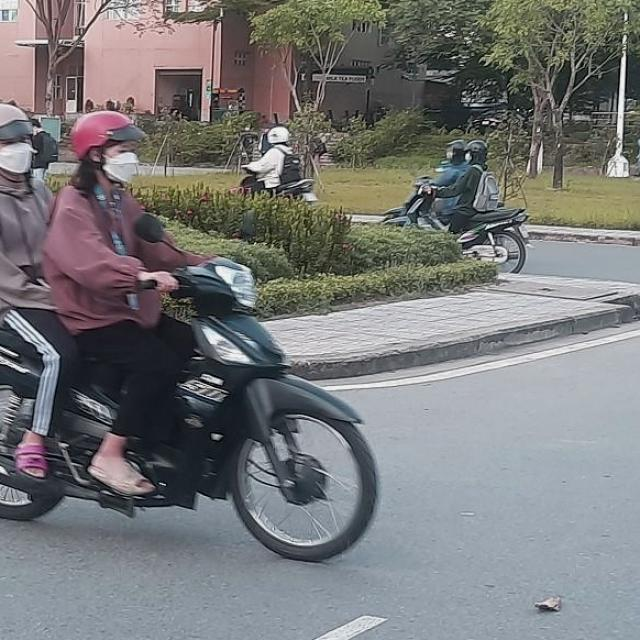Helmet: (72, 106, 148, 184), (0, 102, 34, 170)
